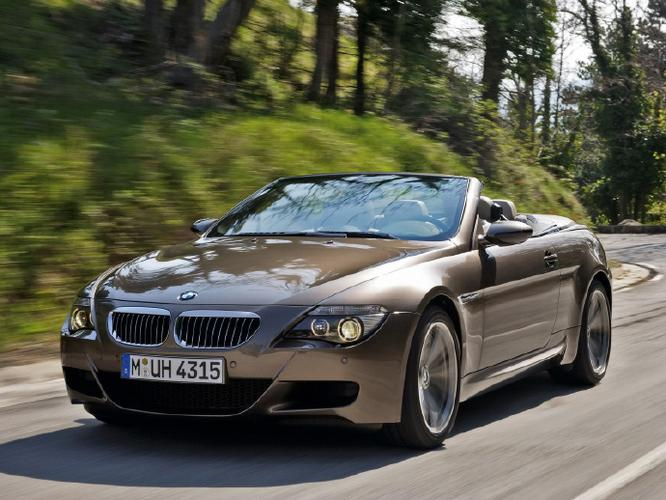汽车: (47, 167, 638, 457)
